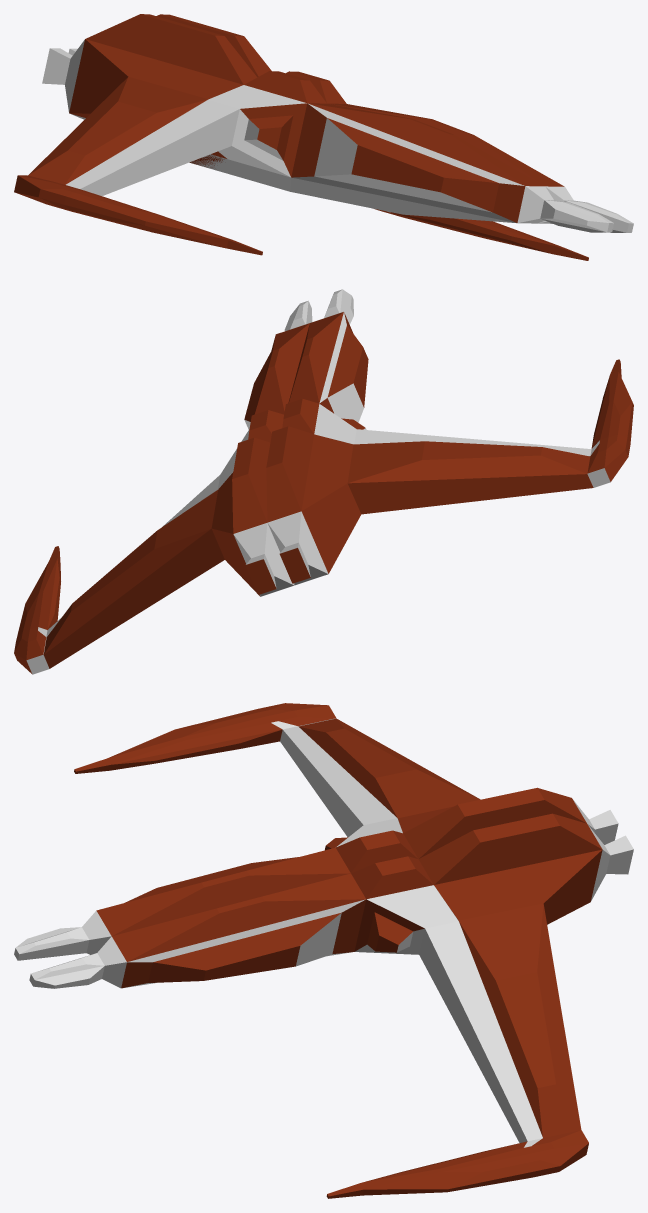
3 views of the same model, one above another, from view 1: azimuth 30°, elevation 25°; view 2: azimuth 150°, elevation 25°; view 3: azimuth 270°, elevation 25° (orthographic). The views are drawn at different scales.
Visible parts, largest first — view 1: Player Ship-Fighter; view 2: Player Ship-Fighter; view 3: Player Ship-Fighter.
Part boxes in pixels (bbox=[...]): Player Ship-Fighter: bbox=[14, 14, 633, 260]; Player Ship-Fighter: bbox=[14, 289, 633, 674]; Player Ship-Fighter: bbox=[14, 703, 633, 1198].
Bounding box in the file's own units: 17.39 × 7.6 × 16.51.
